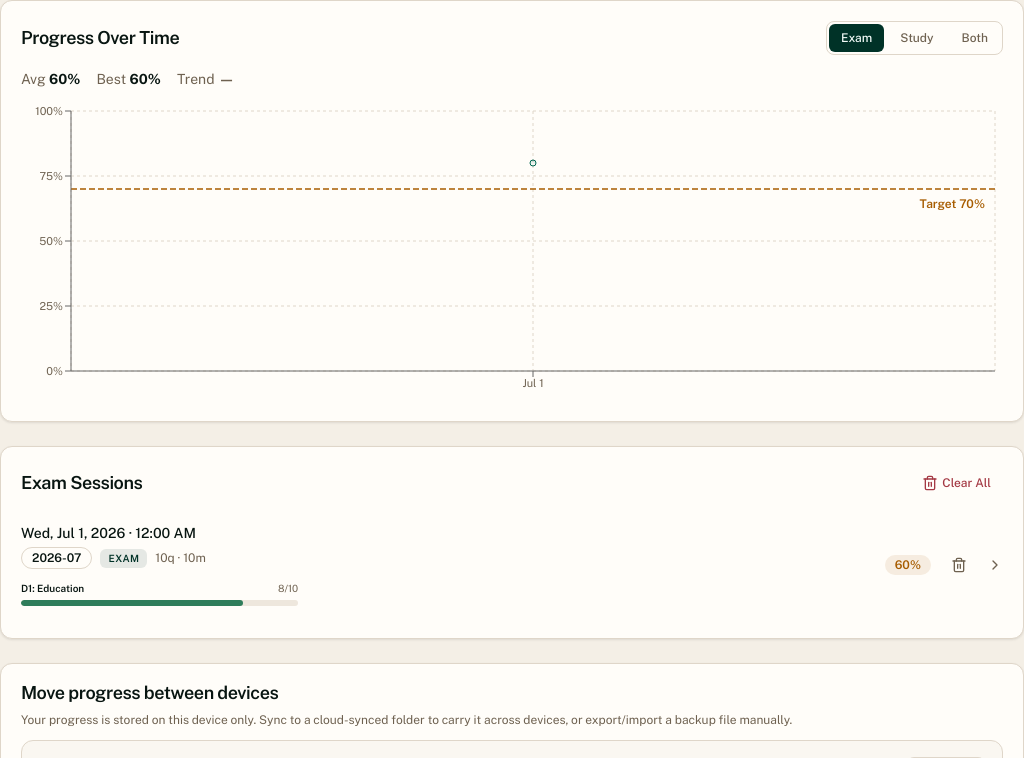
Test: History — connected-card copy › shows a combined EMA trend and themed mode labels for Both
Click the button "Both": (975, 38) [950,24,1000,52]
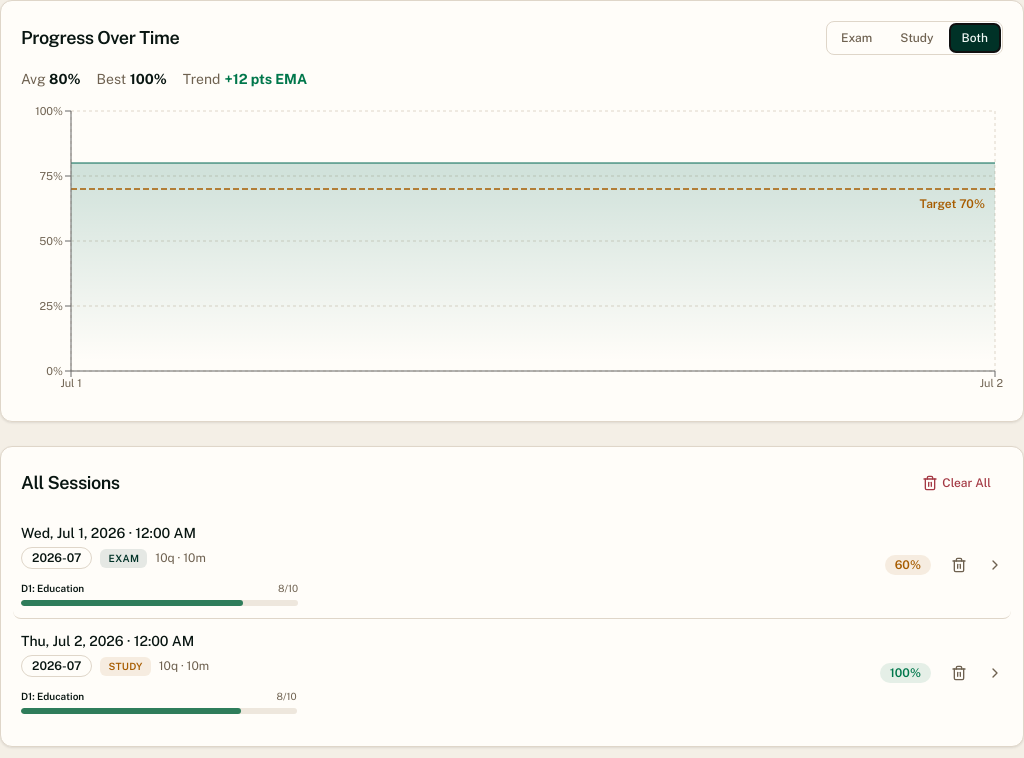
Result: the text "+12 pts EMA" is shown at [224,69,307,89]
